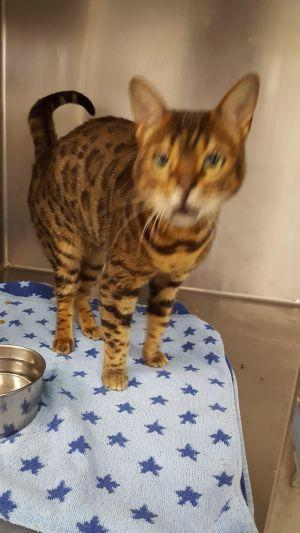bengal: (122, 71, 270, 239)
